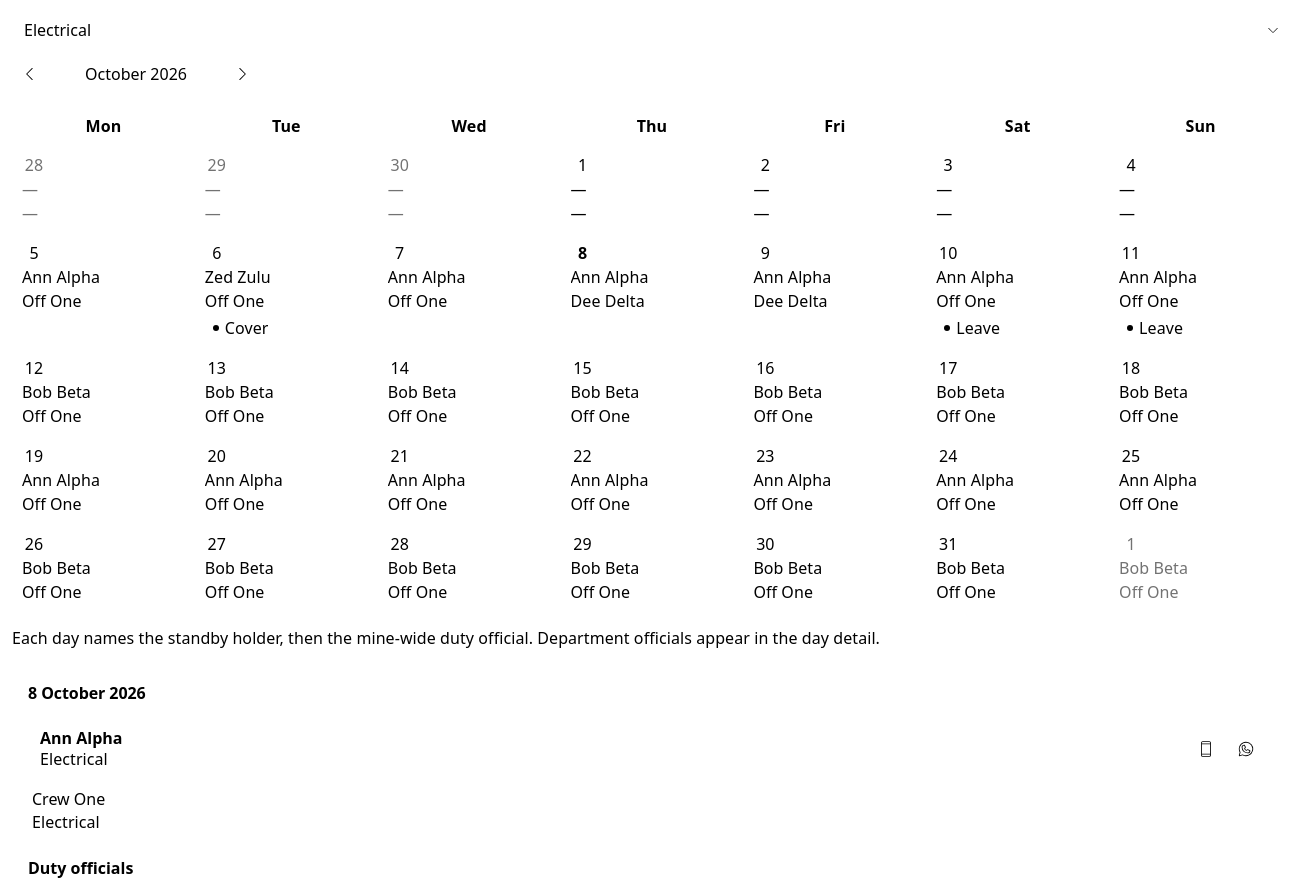
Test case: MonthBoard › moves between months and back to today
Click the button named "Previous month": [30, 74] box [12,56,48,92]
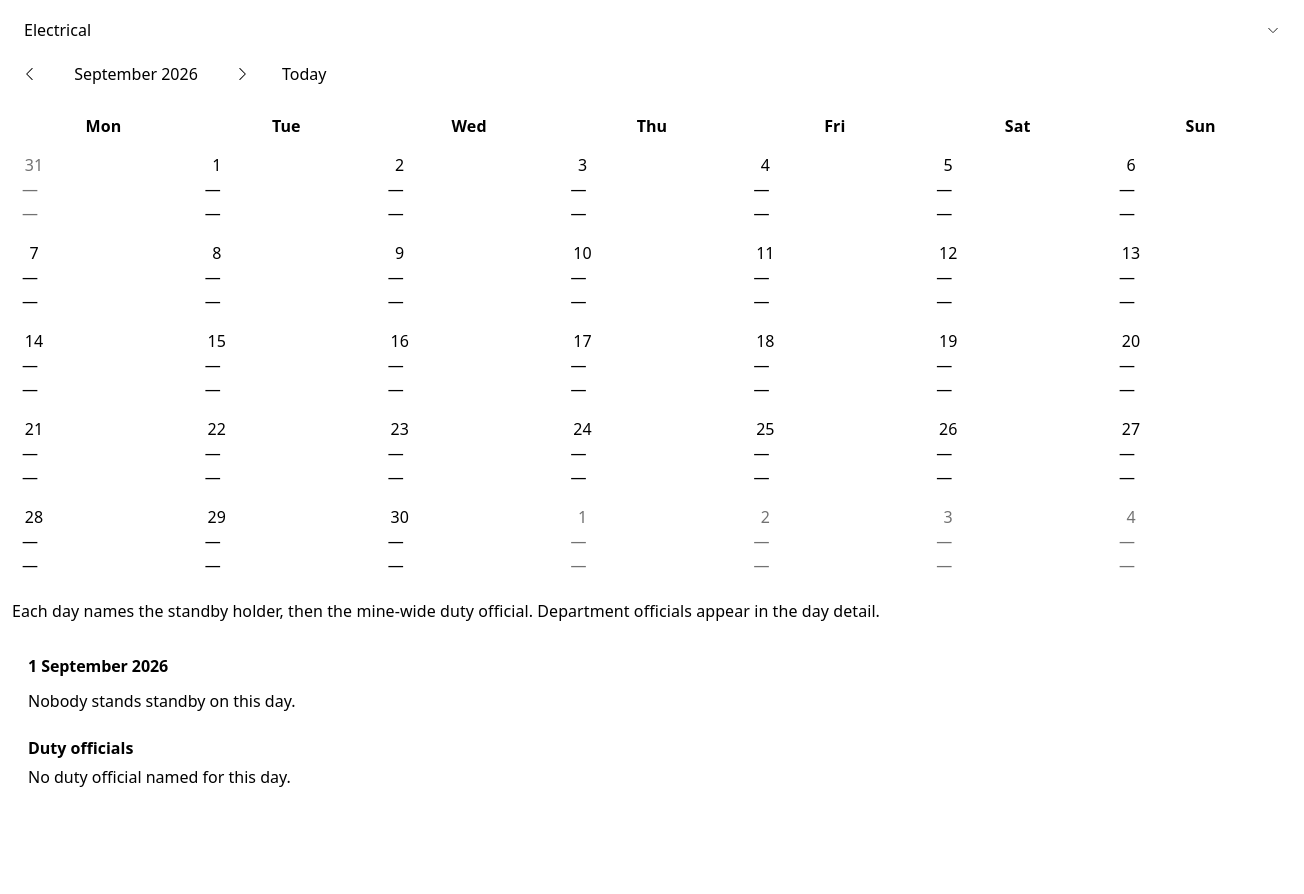
Expected: the text "September 2026" is shown, [74,63,198,85]
Click the button "Today": [304, 74] box [268,56,340,92]
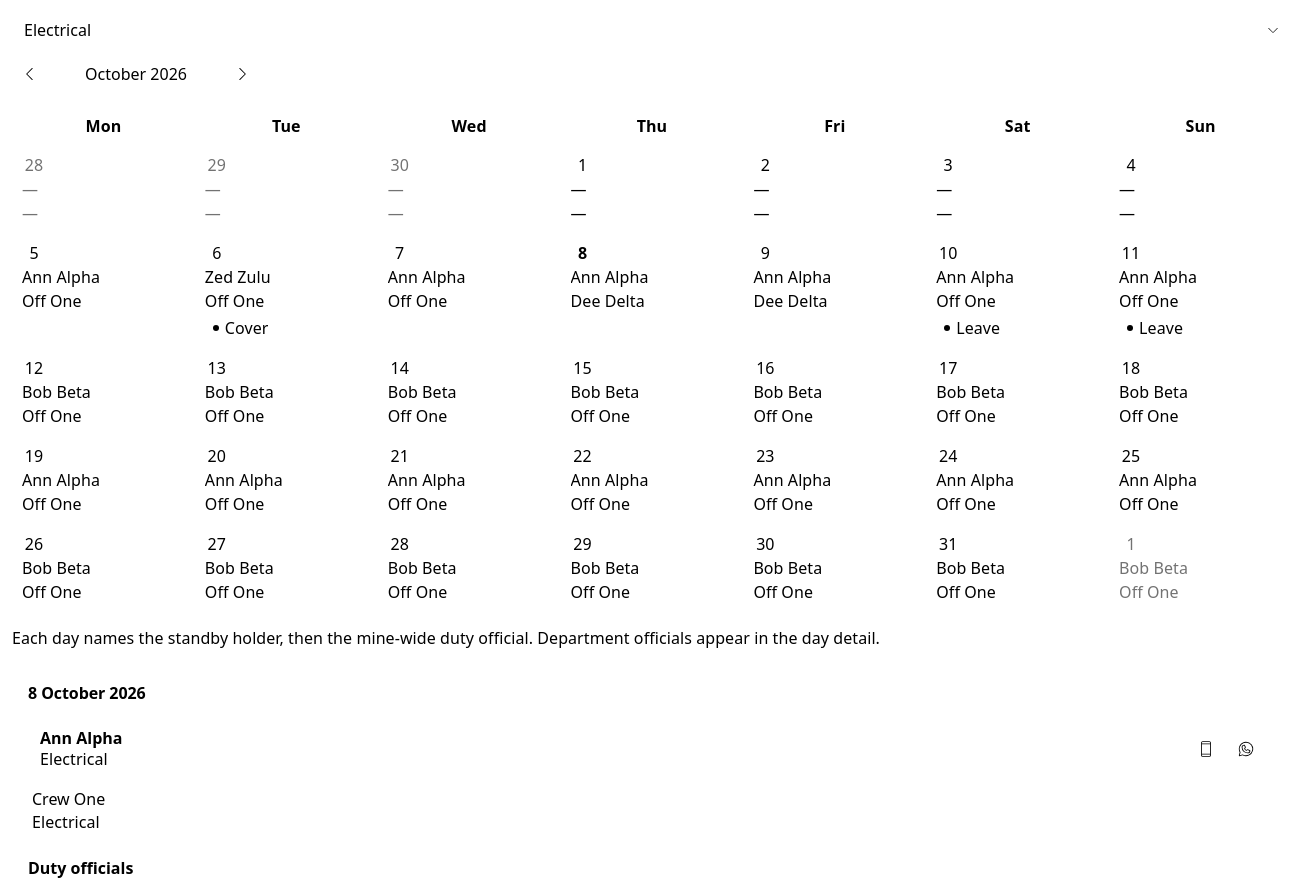
Expected: the text "October 2026" is shown, [85,63,187,85]
